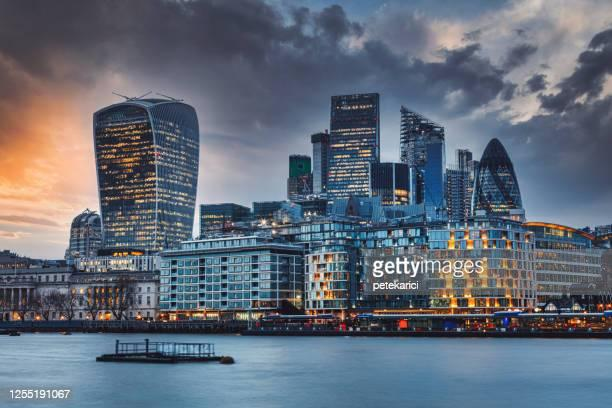Walkie talkie: (88, 87, 200, 246)
